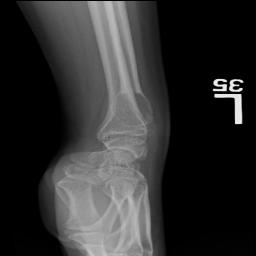cancer: (111, 90, 152, 124)
